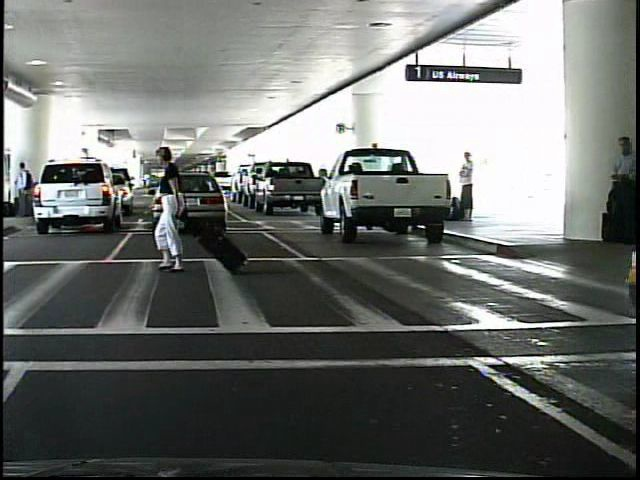person: (157, 149, 210, 277), (597, 132, 635, 244), (455, 152, 486, 223), (19, 160, 38, 221)
